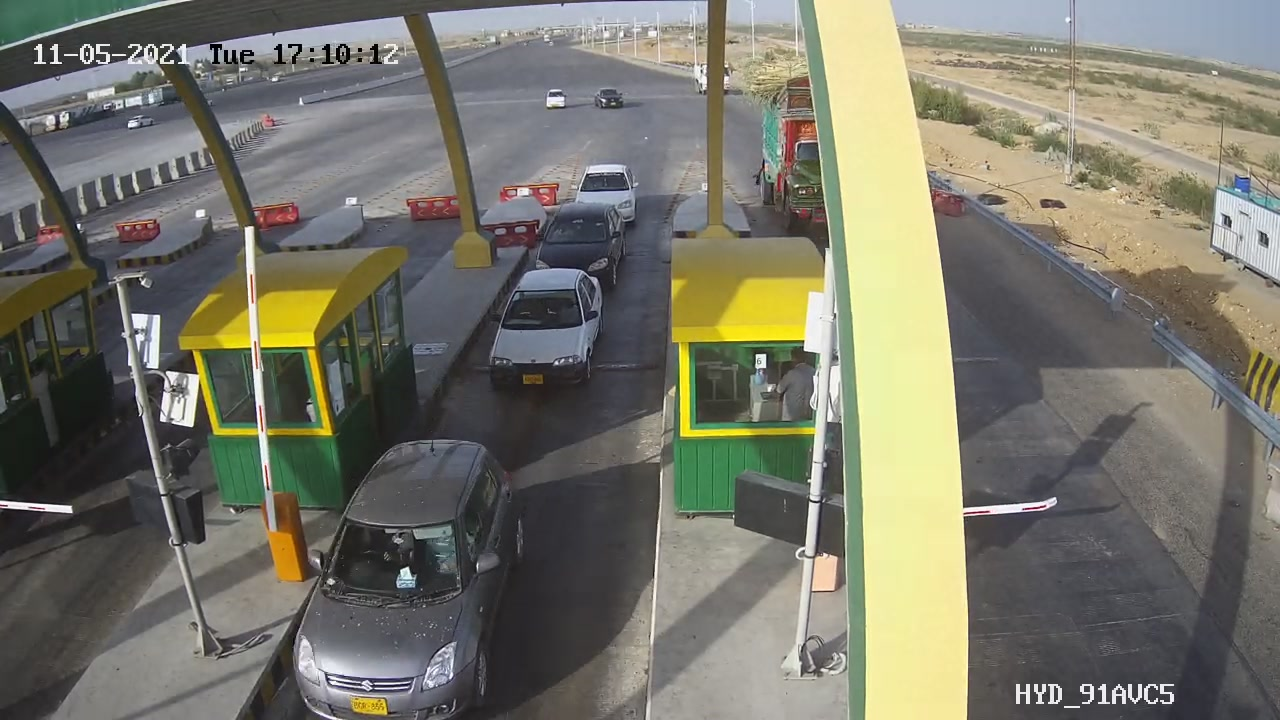F1: (461, 256, 625, 407), (516, 192, 646, 296)
